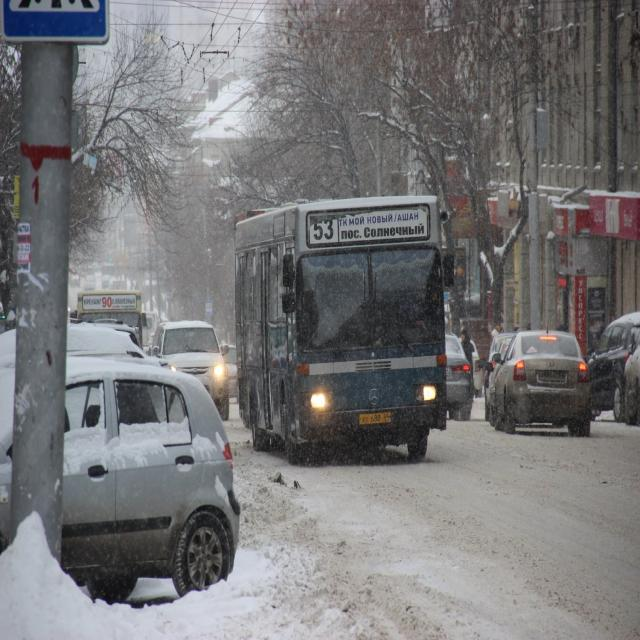number-of-bus: (312, 217, 337, 243)
